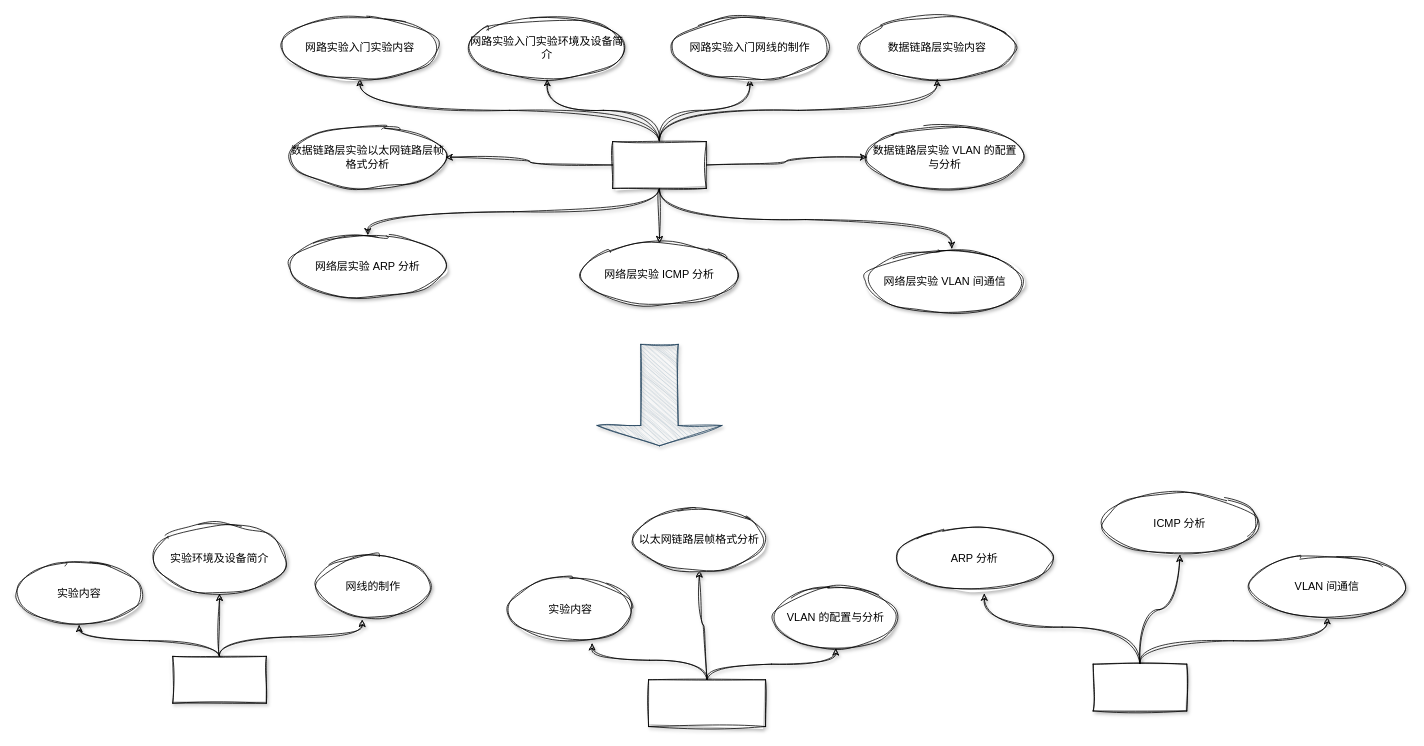
The diagram is 1424 pixels wide and 746 high, and some of its shapes have lost their labels. Here are the shapes that lost their labels. From the top down, the centre of each, then its label:
point (660, 166): note
point (220, 680): 网络实验入门
point (1140, 688): 网络层实验
point (707, 704): 数据链路层实验
